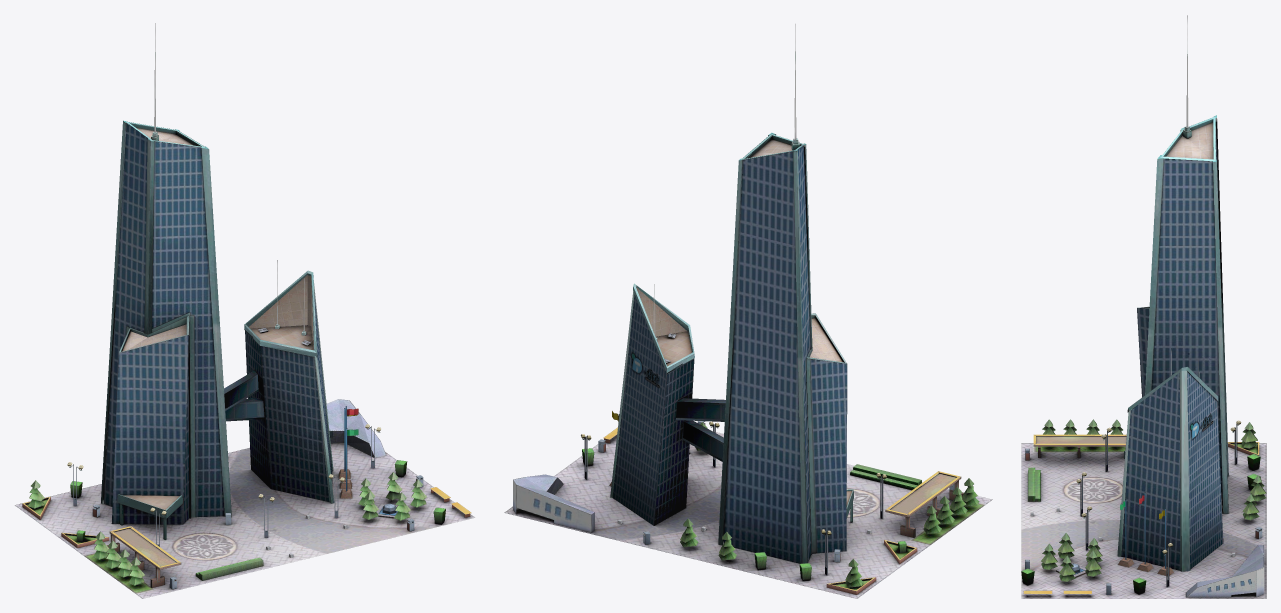
The model's file is multi_storied_01.obj.
3 views of the same model, side by side, from view 1: azimuth 30°, elevation 25°; view 2: azimuth 150°, elevation 25°; view 3: azimuth 270°, elevation 25° (orthographic). The views are drawn at different scales.
Parts seen in each view (by area): view 1: maoyidasha02; view 2: maoyidasha02; view 3: maoyidasha02.
Boxes of the visible parts, left/top/right/bottom form: maoyidasha02: left=15, top=23, right=474, bottom=598; maoyidasha02: left=504, top=24, right=992, bottom=598; maoyidasha02: left=1021, top=15, right=1266, bottom=598.
Size of the model in its own units: 15.24 by 21.78 by 10.17.
